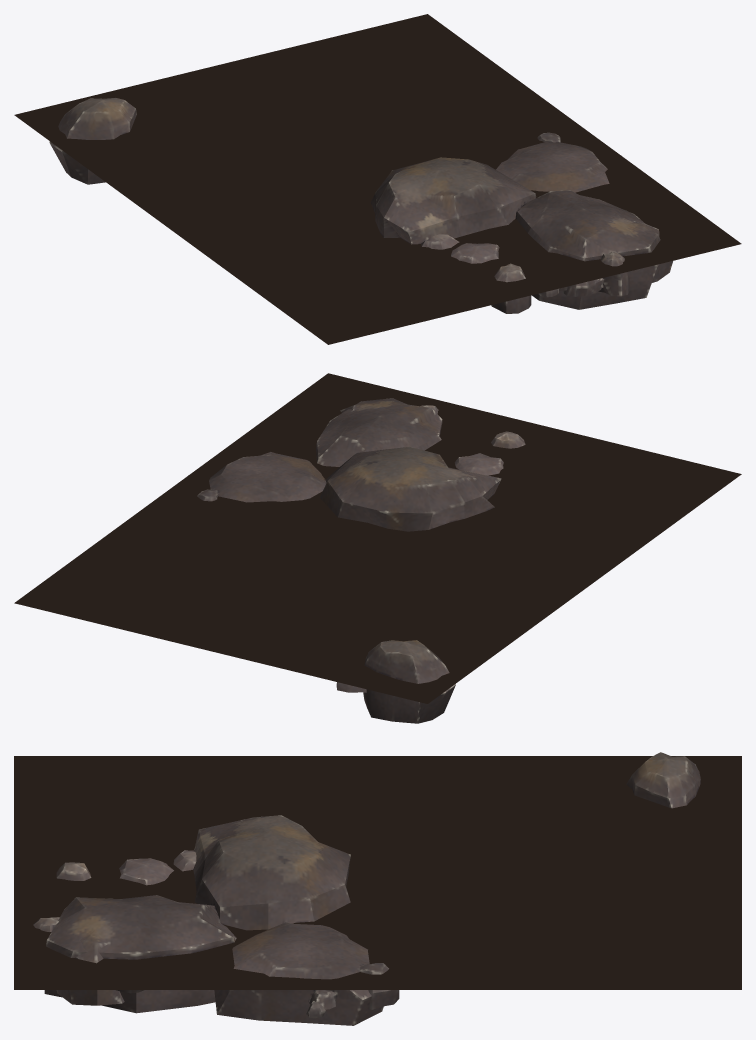
3 renders of one model, top to bottom at view 1: azimuth 30°, elevation 25°; view 2: azimuth 150°, elevation 25°; view 3: azimuth 270°, elevation 25°, orthographic. The views are drawn at different scales.
Parts seen in each view (by area): view 1: GroundShade, Stones; view 2: GroundShade, Stones; view 3: GroundShade, Stones.
Part boxes in pixels (x1,y1,x2,y2): GroundShade: [14, 14, 741, 344]; Stones: [49, 98, 672, 313]; GroundShade: [14, 373, 741, 703]; Stones: [188, 398, 525, 723]; GroundShade: [14, 756, 741, 989]; Stones: [33, 752, 700, 1025].
Bounding box in the file's own units: 30.11 × 6.78 × 38.47.
2 materials, 2 textured.
